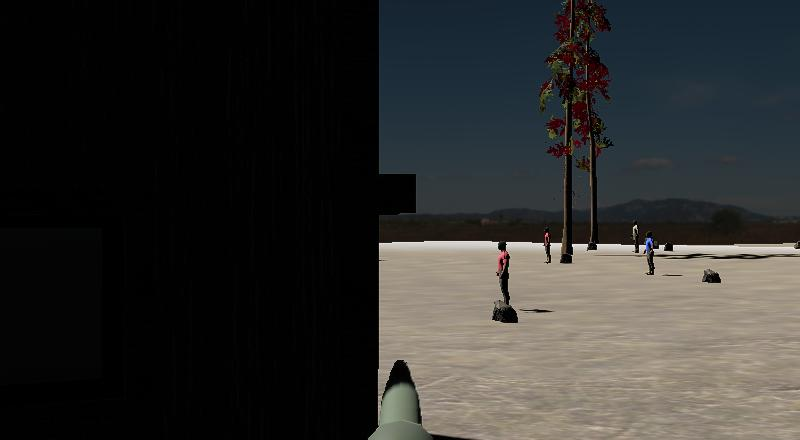Human: (495, 240, 512, 307), (642, 231, 656, 277), (541, 224, 553, 265)
